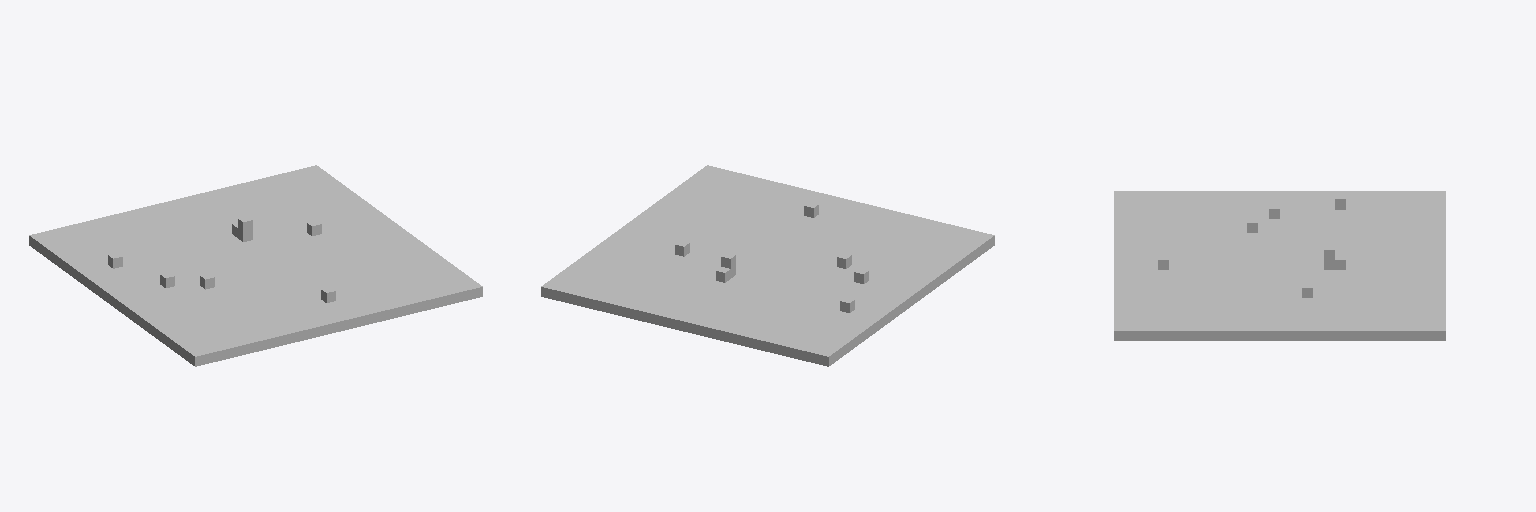
Rendered from lava.obj.
3 views of the same model, side by side, from view 1: azimuth 30°, elevation 25°; view 2: azimuth 150°, elevation 25°; view 3: azimuth 270°, elevation 25° (orthographic).
Size of the model in its own units: 30 by 3 by 30.